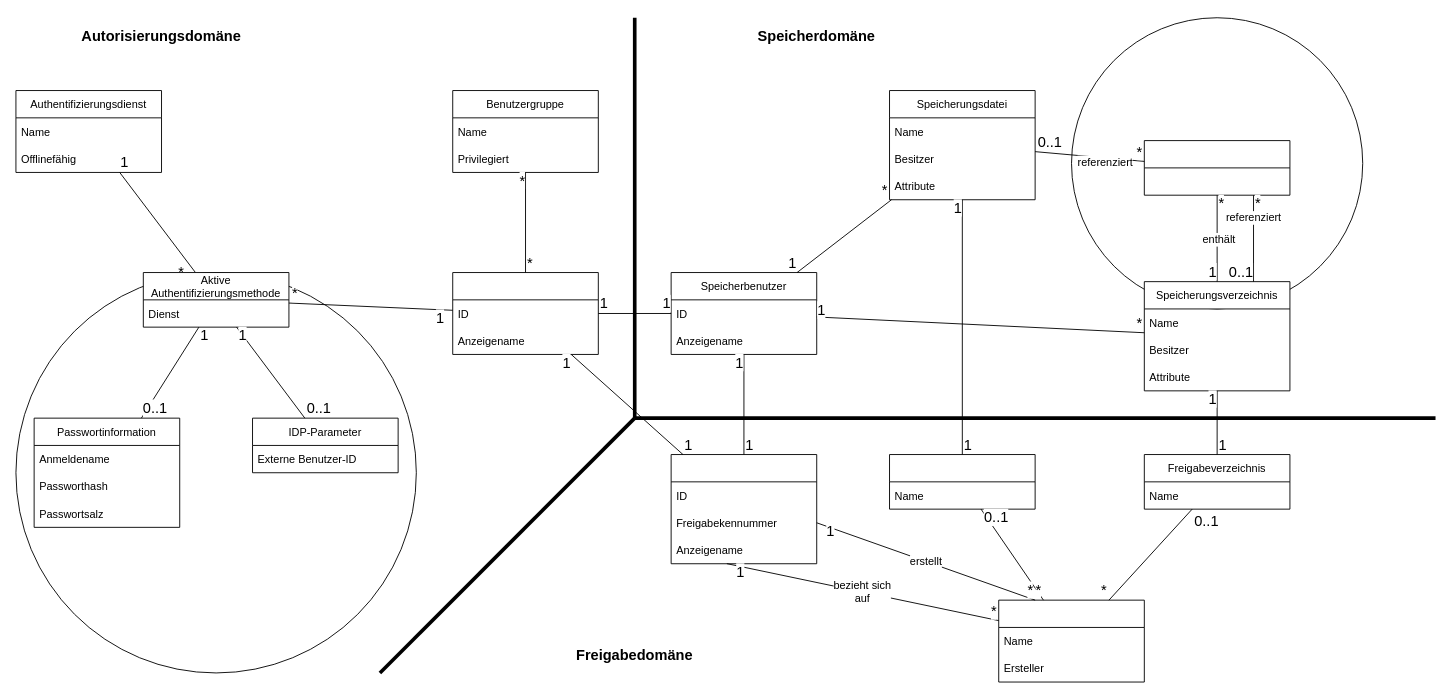
The diagram is 1454 pixels wide and 698 high, and some of its shapes have lost their labels. The box of each missing label's shape, as (x1, y1, x2, y2) in pixels:
Autorisierungsbenutzer: (452, 272, 598, 354)
Freigabe: (998, 599, 1144, 682)
Freigabebenutzer: (670, 454, 817, 564)
Freigabedatei: (889, 454, 1035, 509)
Verzeichniseintrag: (1143, 140, 1290, 195)
